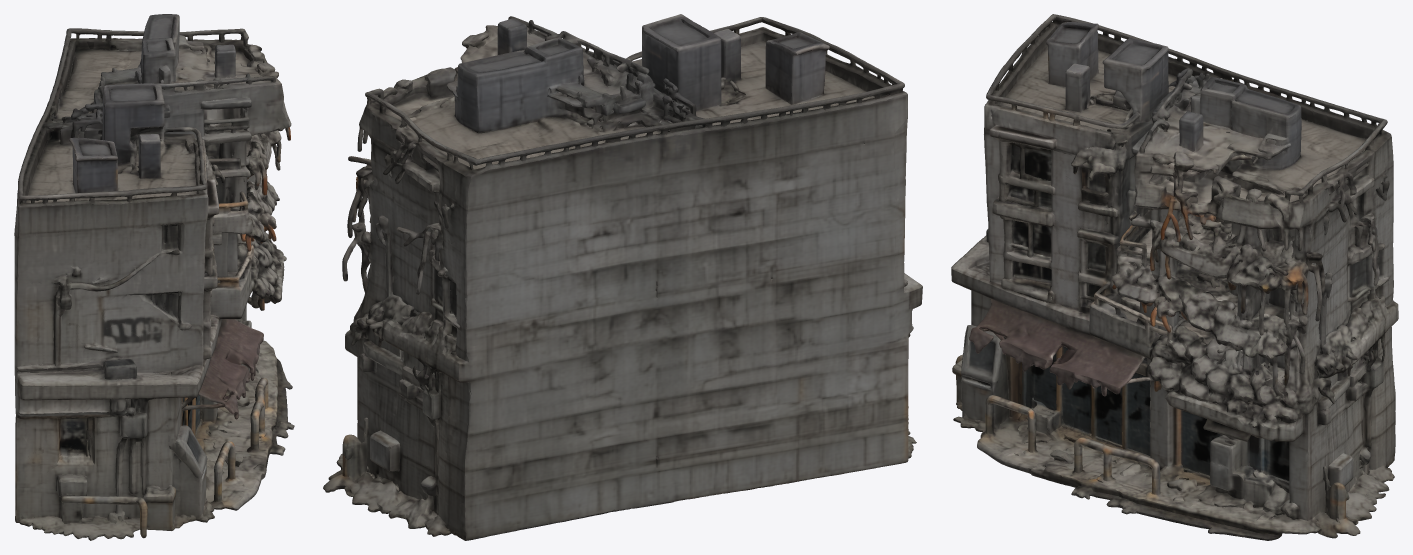
File: ruin_big.glb
3 renders of one model, left to right at view 1: azimuth 30°, elevation 25°; view 2: azimuth 150°, elevation 25°; view 3: azimuth 270°, elevation 25°, orthographic. The views are drawn at different scales.
Visible parts, largest first — view 1: world; view 2: world; view 3: world.
Part boxes in pixels (x1=…): world: x1=14, y1=14, x2=294, y2=540; world: x1=323, y1=14, x2=922, y2=540; world: x1=951, y1=14, x2=1398, y2=540.
Size of the model in its own units: 25 by 23.6 by 24.93.
Materials: 1 (1 with a texture image).
